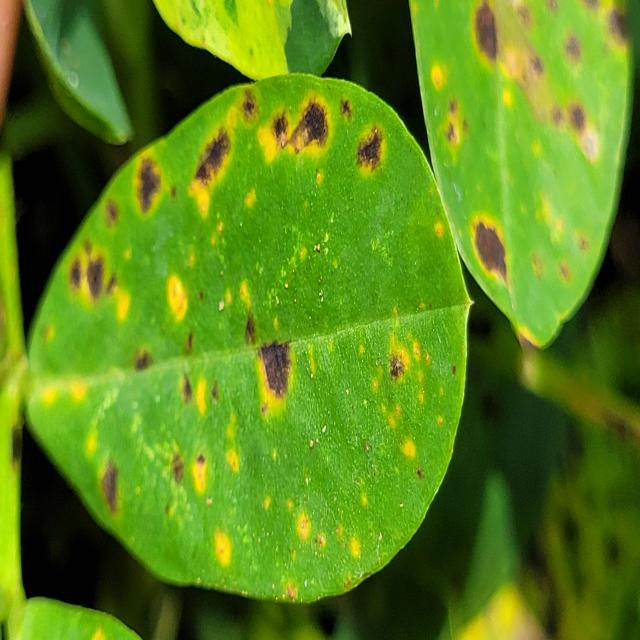Ground nut_tikka leaf spot: (26, 72, 470, 600)
